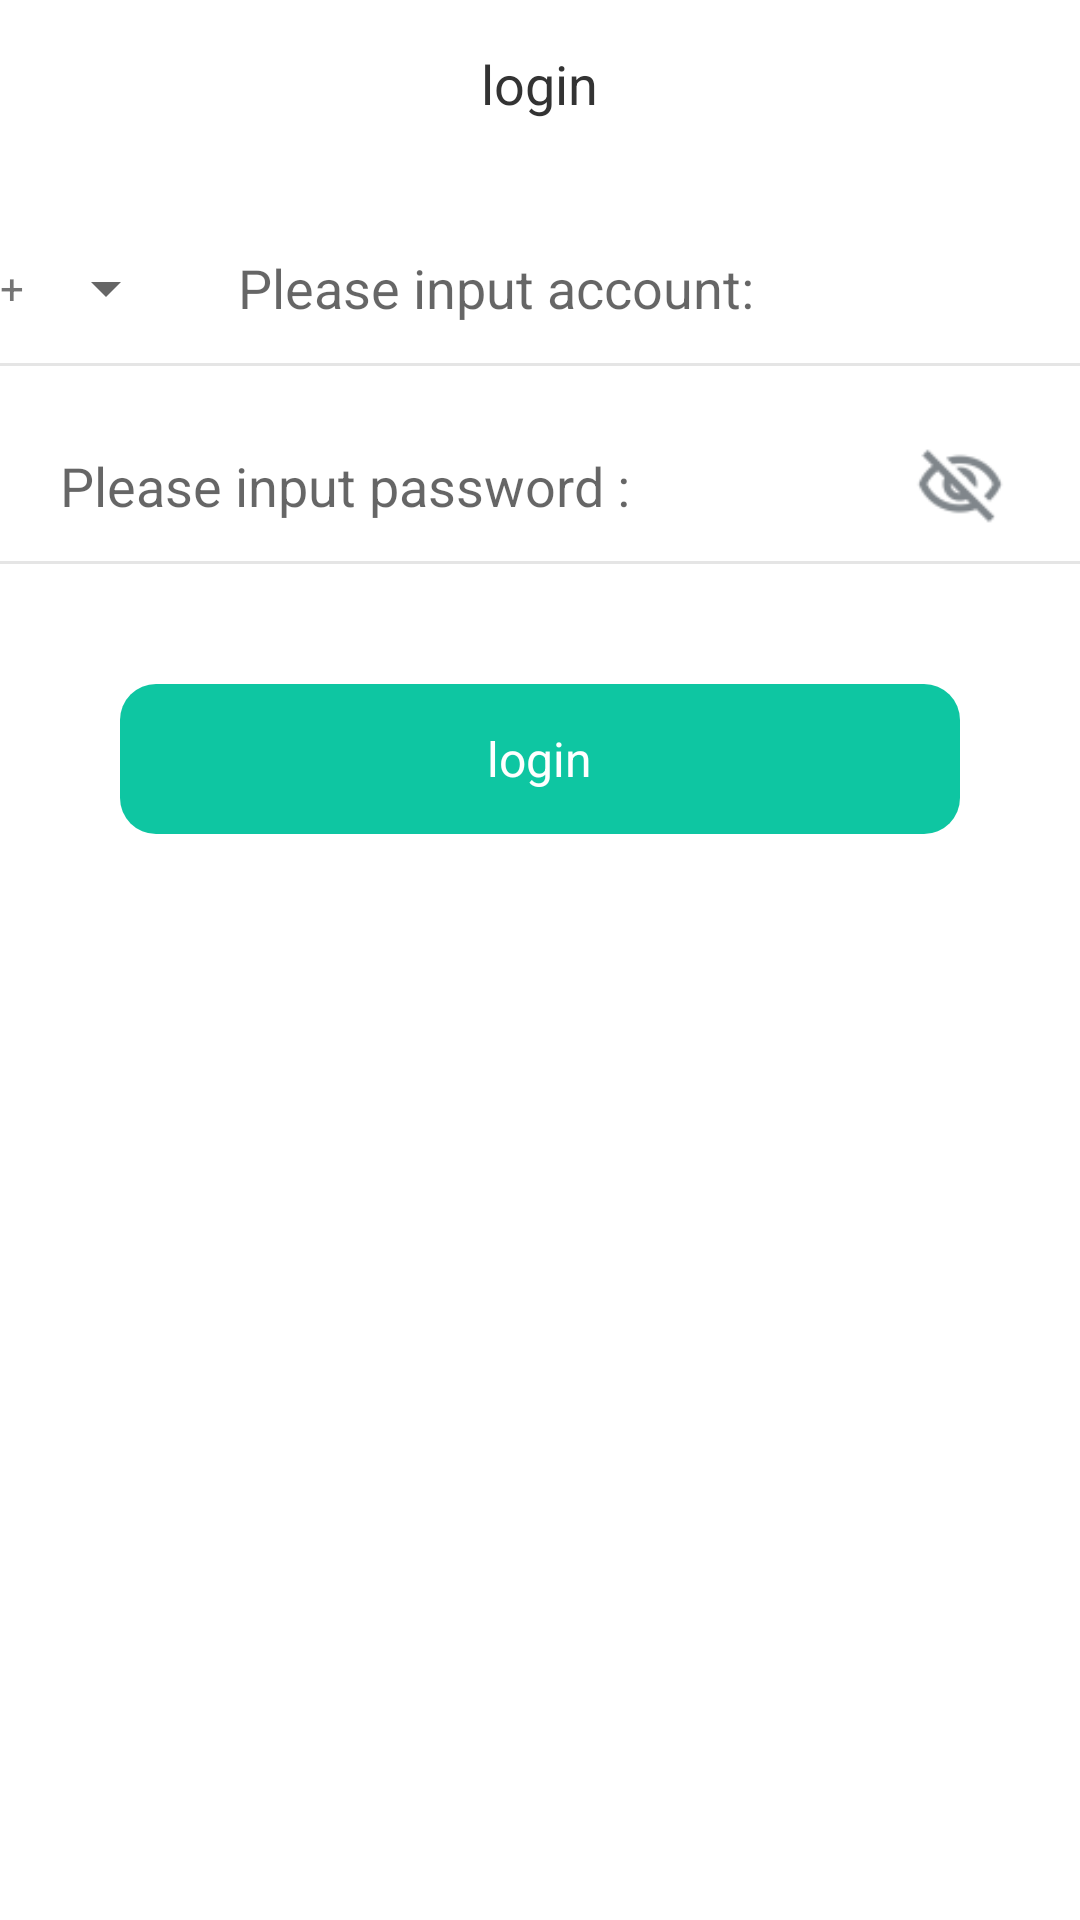

Icon bounding boxes for this 1080px×1920px phone screenshot, format BBox(x1, y1, x2, y2):
setpwd noshow: BBox(919, 450, 1001, 522)
